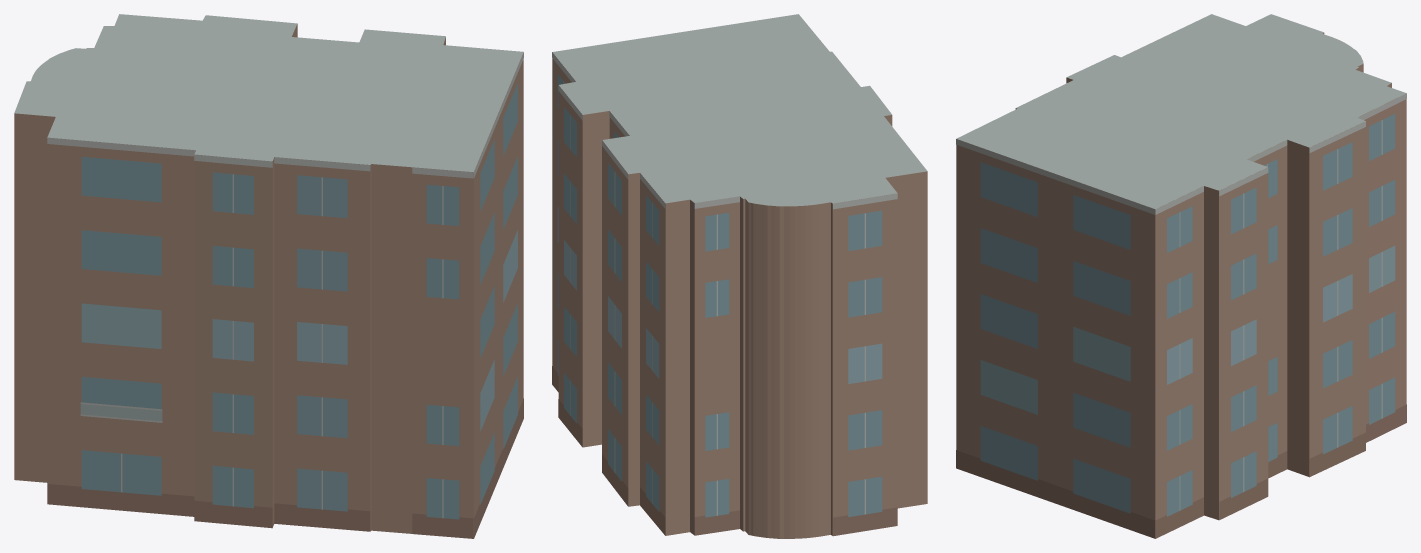
Rendered from survey-upis-32663921.glb.
3 renders of one model, left to right at view 1: azimuth 30°, elevation 25°; view 2: azimuth 150°, elevation 25°; view 3: azimuth 270°, elevation 25°, orthographic. The views are drawn at different scales.
Parts seen in each view (by area): view 1: survey-upis-32663921.tmp; view 2: survey-upis-32663921.tmp; view 3: survey-upis-32663921.tmp.
Part boxes in pixels (left/top/right/bottom): survey-upis-32663921.tmp: left=14, top=14, right=523, bottom=538; survey-upis-32663921.tmp: left=552, top=14, right=927, bottom=538; survey-upis-32663921.tmp: left=956, top=14, right=1406, bottom=538.
Size of the model in its own units: 17.8 by 14 by 17.36.
